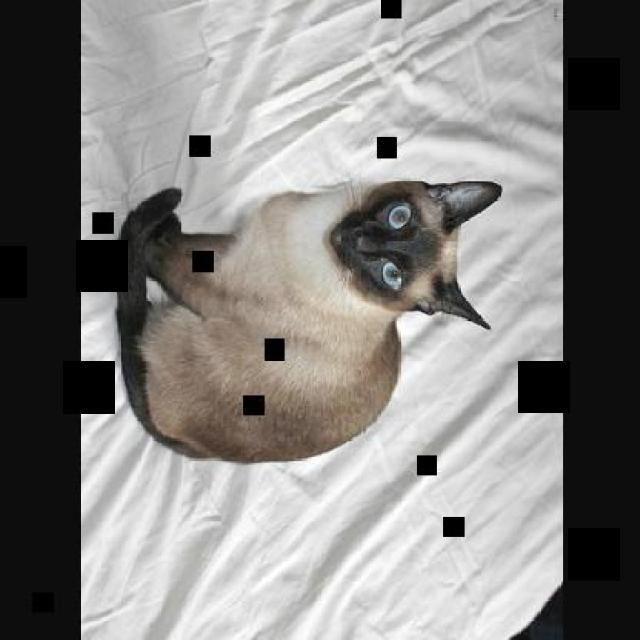unauthorized: (112, 175, 502, 463)
